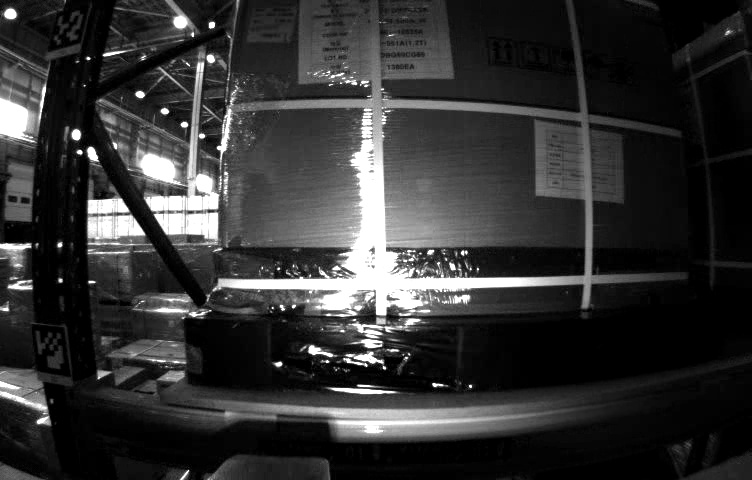True Barcode: (249, 1, 294, 44)
